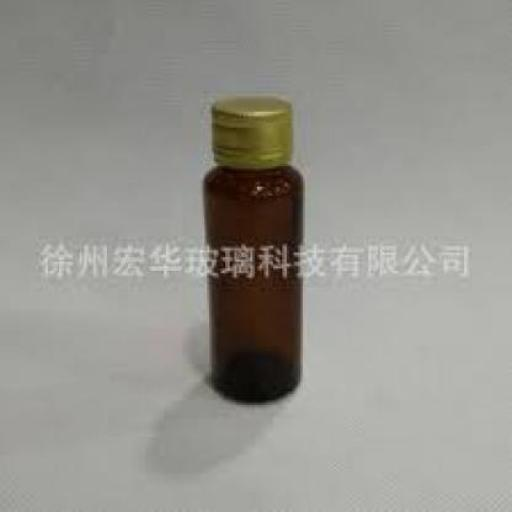glass: (203, 164, 300, 402)
metal: (209, 93, 294, 164)
